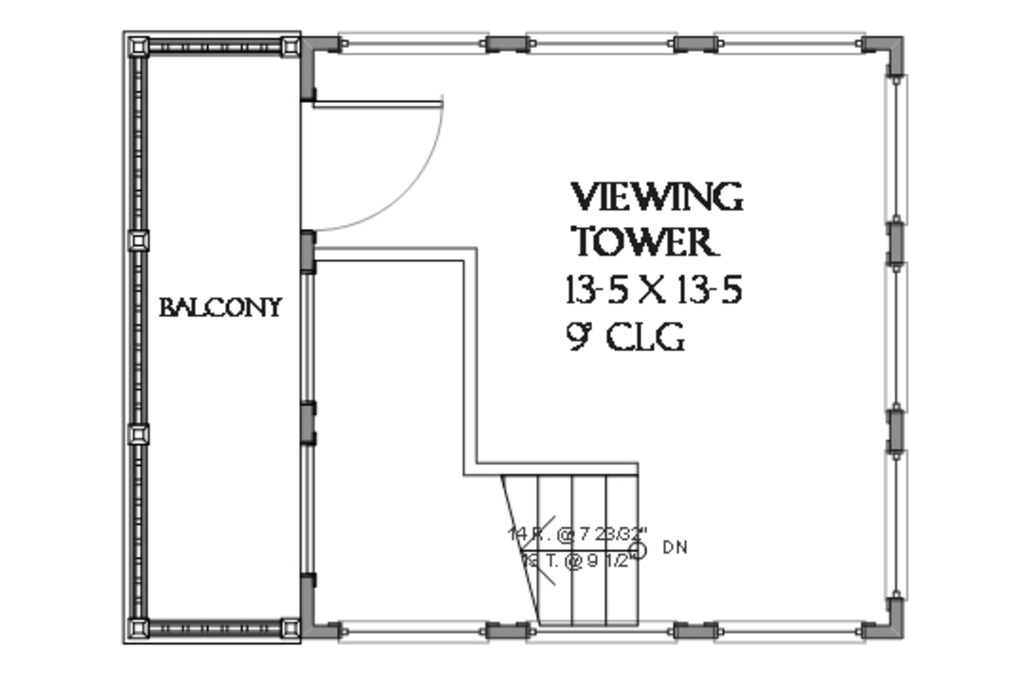door: (302, 96, 446, 233)
stairs: (491, 463, 644, 632)
windows: (296, 268, 322, 402), (296, 439, 315, 575)
